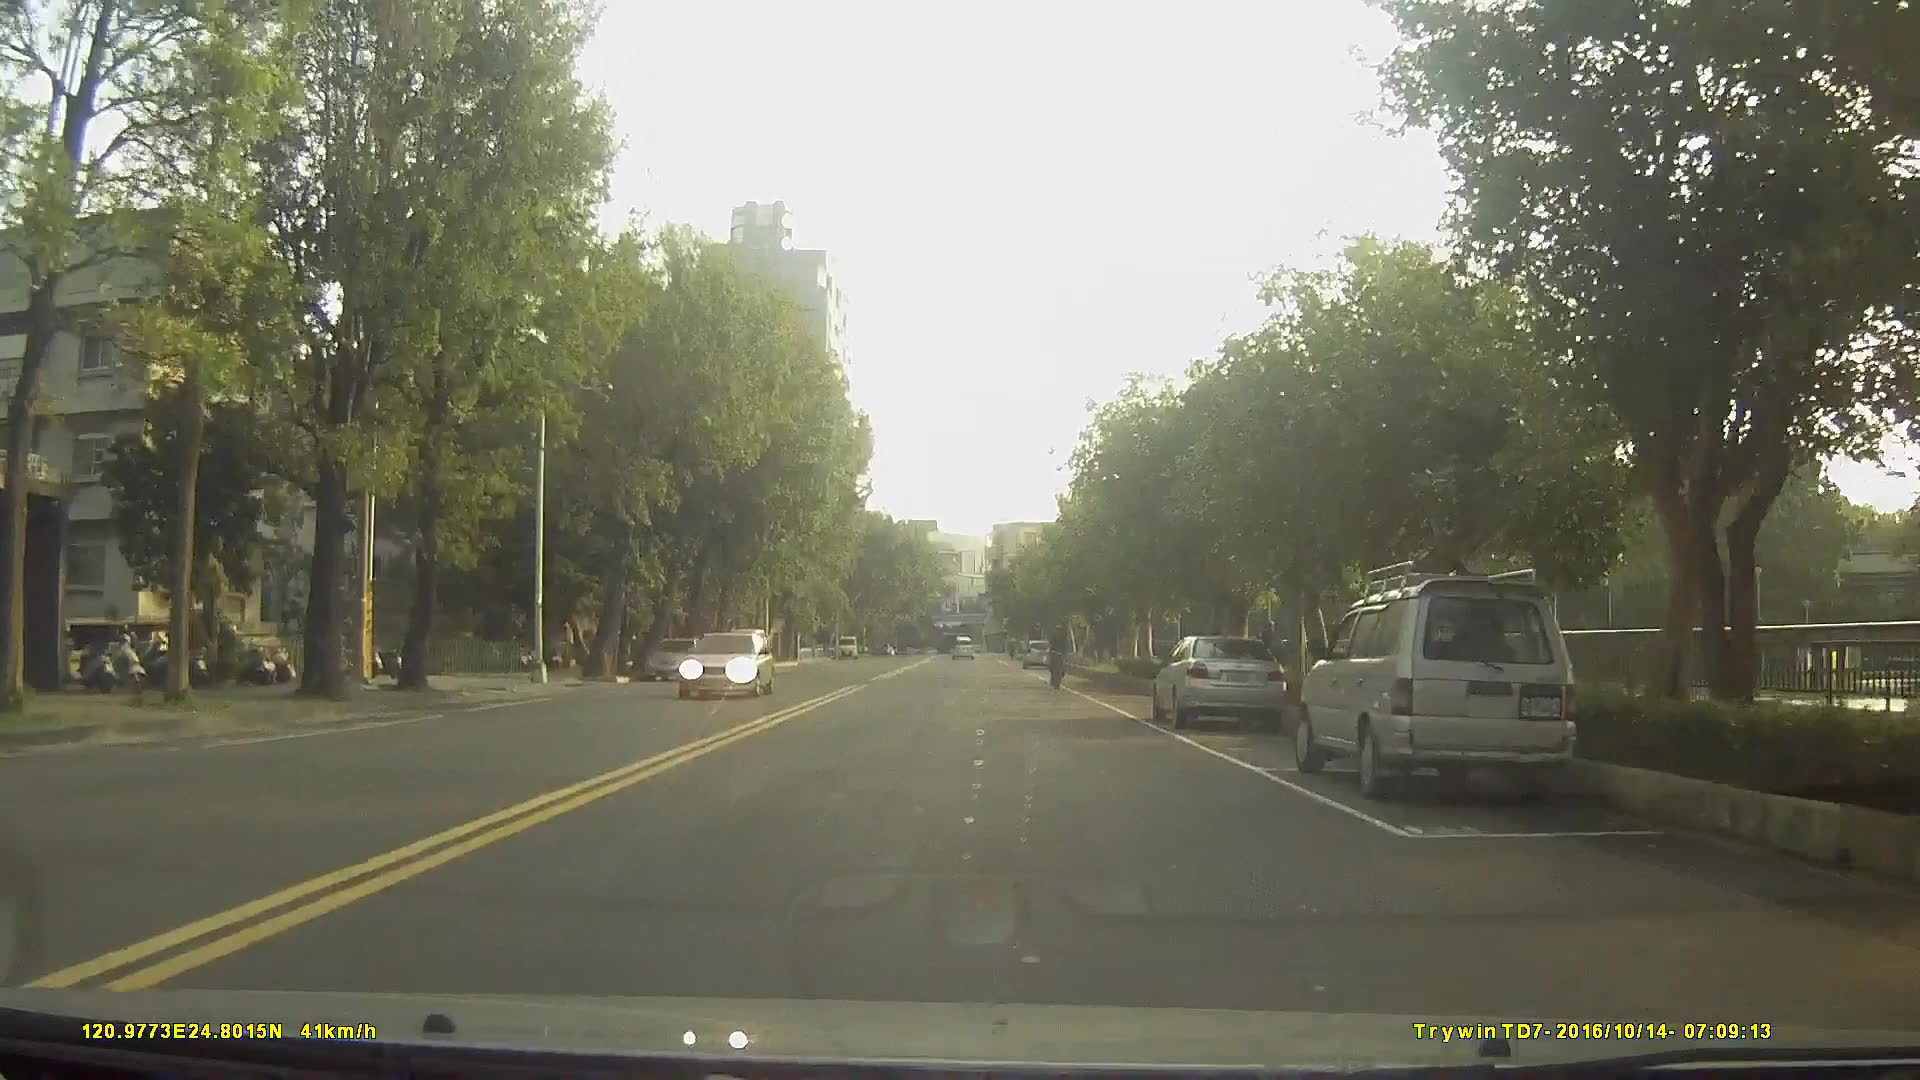rider: (1049, 623, 1071, 696)
vehicle: (1293, 571, 1578, 800), (1154, 632, 1291, 735), (672, 629, 777, 701), (644, 636, 704, 682), (720, 632, 768, 677), (1020, 637, 1054, 670), (947, 635, 975, 663)
